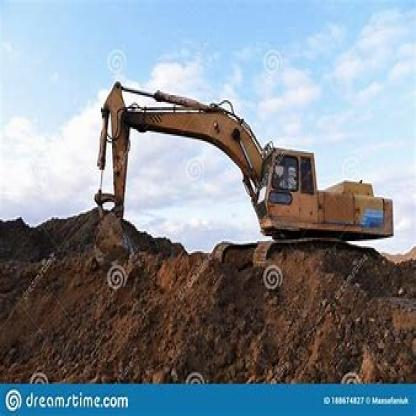excavator: (80, 70, 411, 294)
